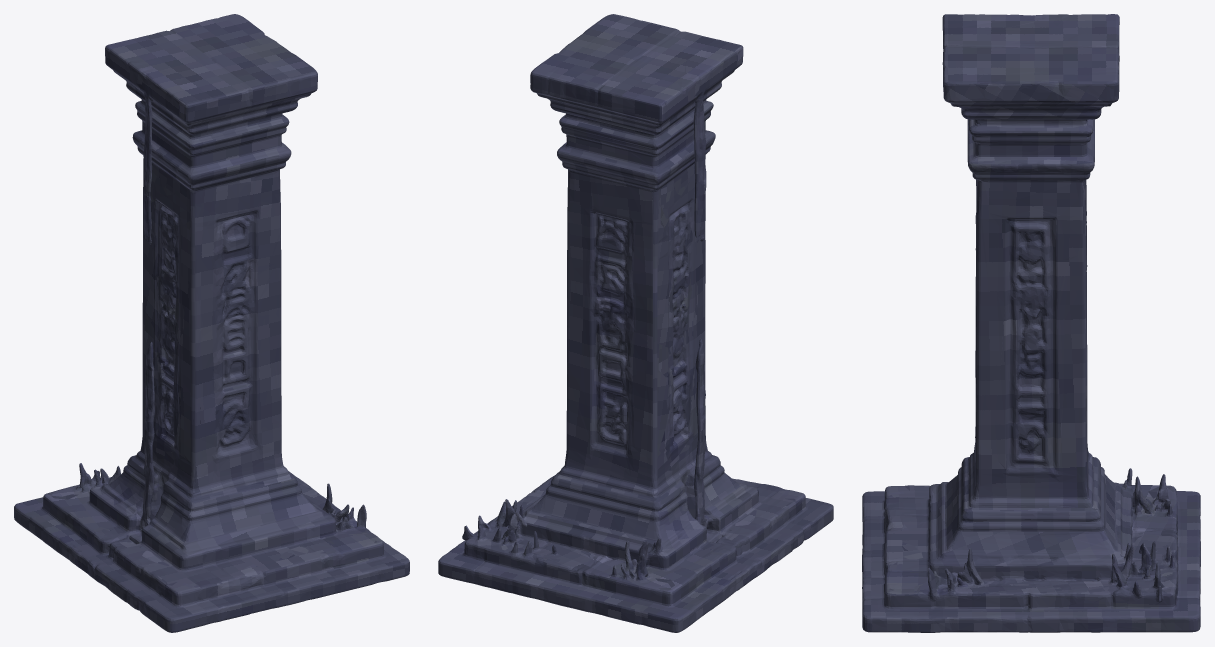
File: weathered-monolith-pillar-generated-2026-04-19T23-36-30-619Z.high.glb
3 renders of one model, left to right at view 1: azimuth 30°, elevation 25°; view 2: azimuth 150°, elevation 25°; view 3: azimuth 270°, elevation 25°, orthographic. The views are drawn at different scales.
Parts seen in each view (by area): view 1: temp_mesh.ply; view 2: temp_mesh.ply; view 3: temp_mesh.ply.
Boxes of the visible parts, x1,y1,x2,y2 form: temp_mesh.ply: (14,14,409,632); temp_mesh.ply: (438,14,833,632); temp_mesh.ply: (862,14,1200,632).
Size of the model in its own units: 1.03 by 1.96 by 1.15.
Materials: 1 (1 with a texture image).
